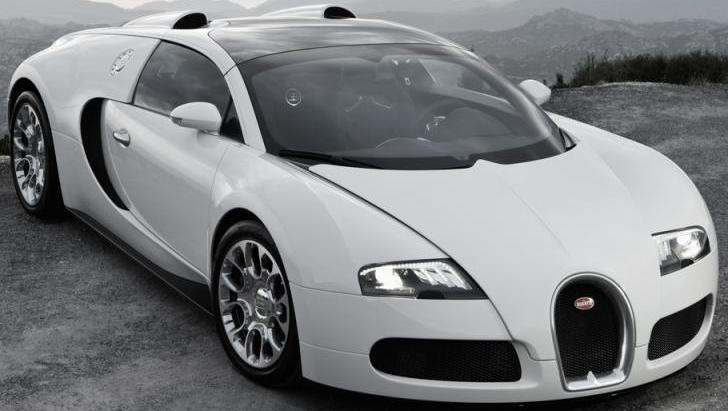front_view: (337, 217, 727, 410)
headlight: (354, 246, 490, 307)
side_glass: (131, 35, 236, 144)
